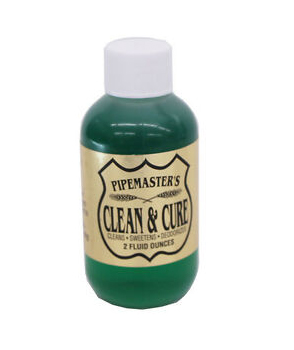Cleaning_solution: (77, 36, 204, 311)
